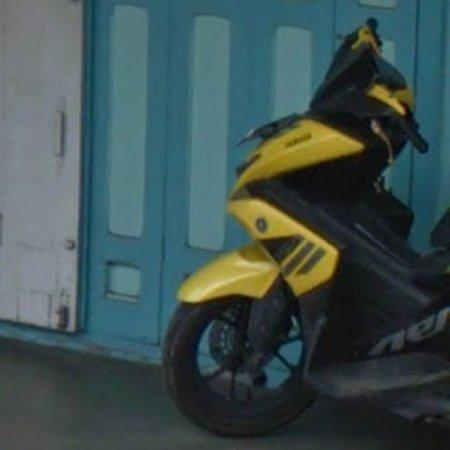motorcycles: (164, 19, 450, 437)
